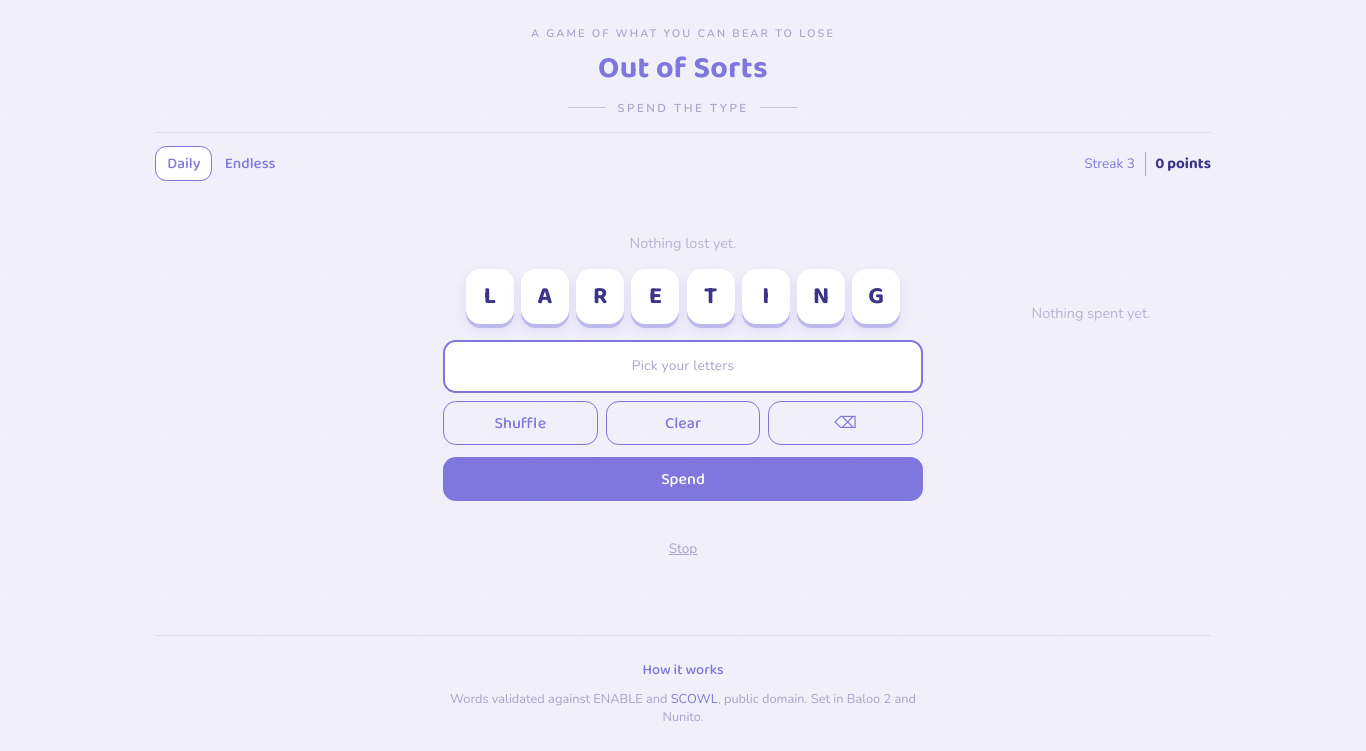
Test: the streak tells the truth on load › a live streak climbs when the run ends, with no reload
expect the element that starts with "Nothing lost yet." is shown: met, box [443,233,1150,571]
expect the text with test id "streak" shows "3": met, box [1127,154,1135,173]
Press Escape
Type keys "triangle{Enter}"
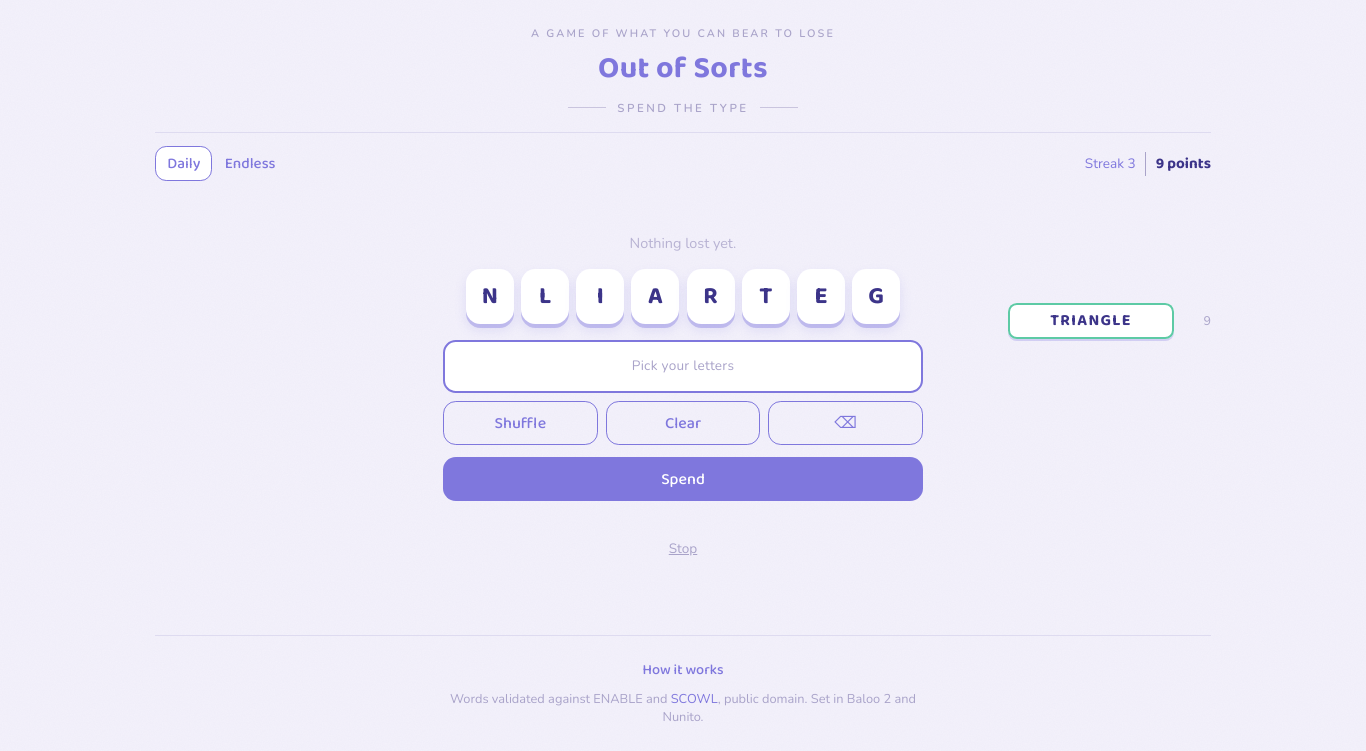
Click the button "Stop".
click(683, 549)  # box [653,527,713,571]
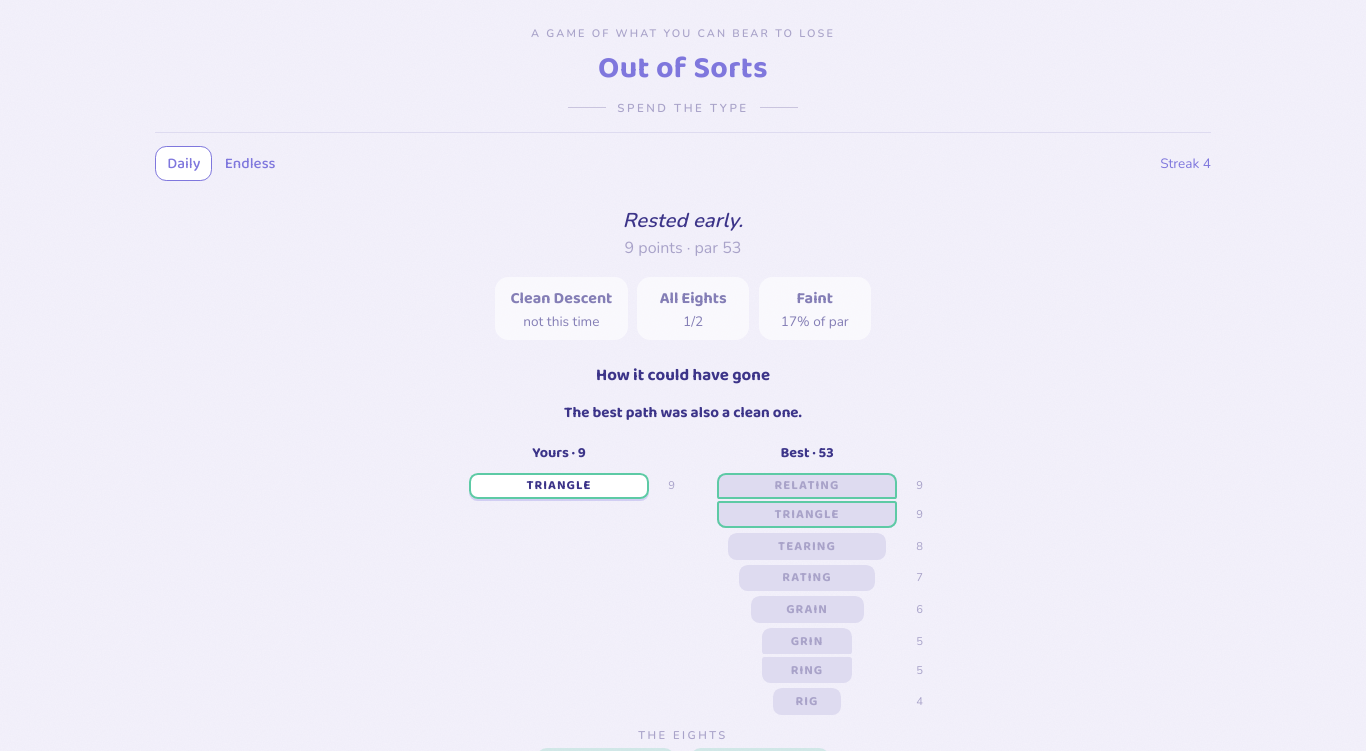
expect the text with test id "streak" shows "4": met, box [1203,154,1211,173]
